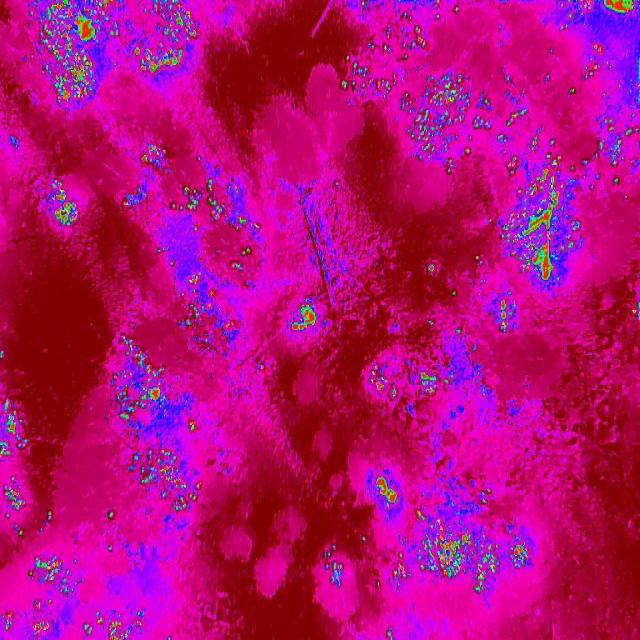fire: (334, 0, 489, 179), (490, 76, 604, 289), (101, 330, 206, 538), (37, 0, 207, 114), (316, 520, 536, 602), (118, 136, 262, 240), (571, 0, 640, 188), (1, 555, 149, 640), (172, 238, 262, 350), (0, 392, 36, 542), (36, 169, 86, 242), (366, 362, 442, 409), (283, 296, 323, 346), (372, 476, 404, 516), (489, 295, 516, 337), (423, 258, 438, 282)
